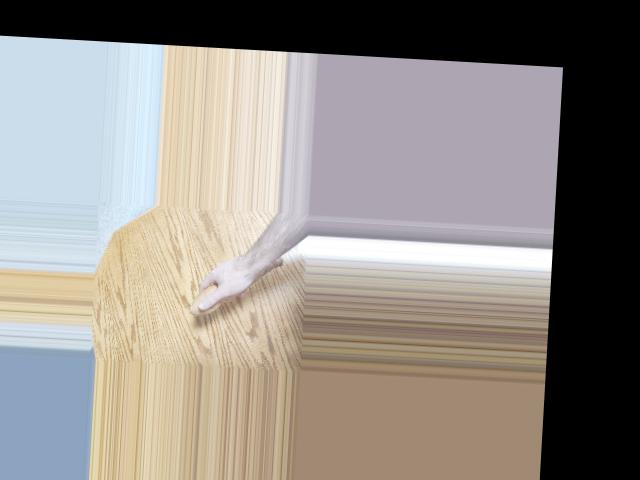sweet_potato: (187, 253, 282, 320)
